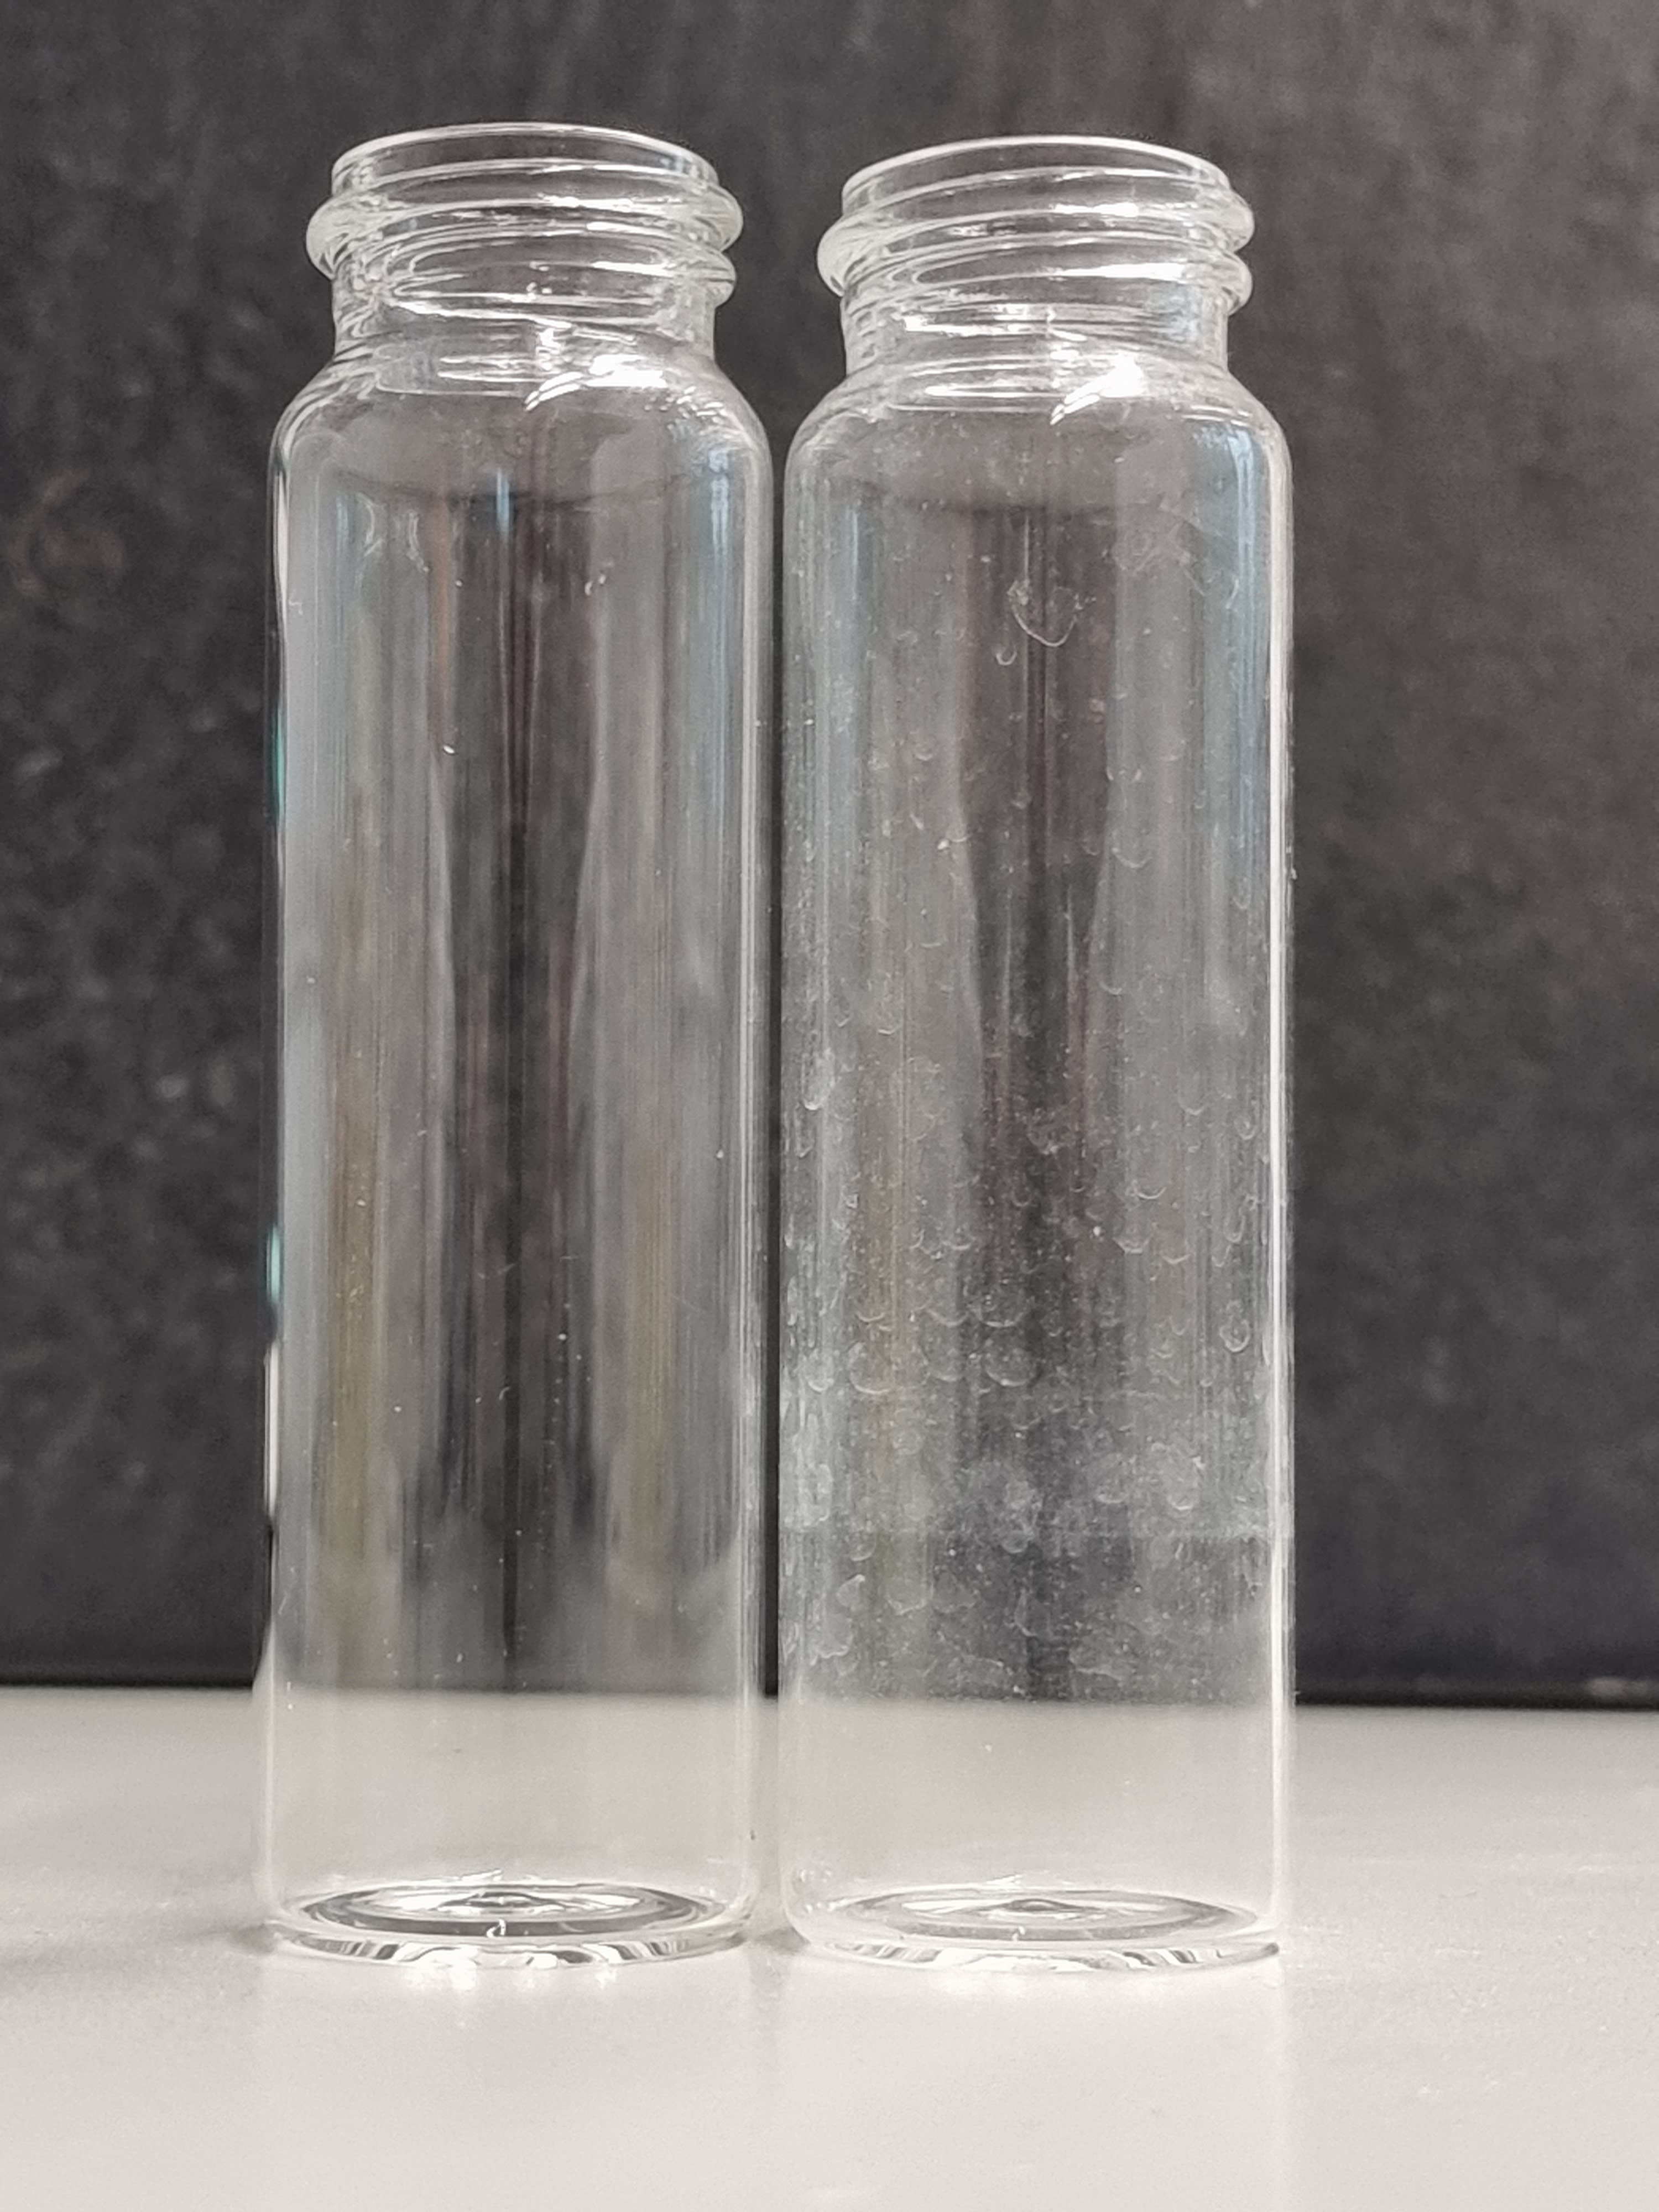vial: (782, 132, 1317, 1994), (267, 111, 777, 1956)
